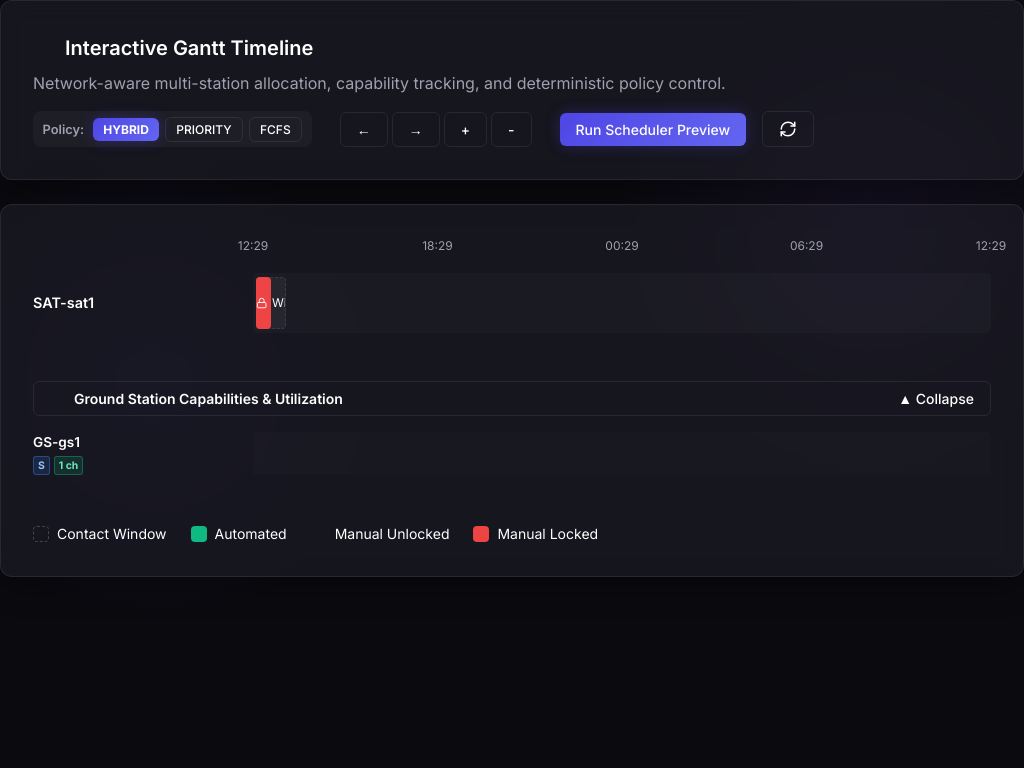
Scenario: GanttTimeline › handles 409 stale version on commit
Click the button "Run Scheduler Preview" at point(653, 129), box top-left (560, 113), bottom-right (746, 146)
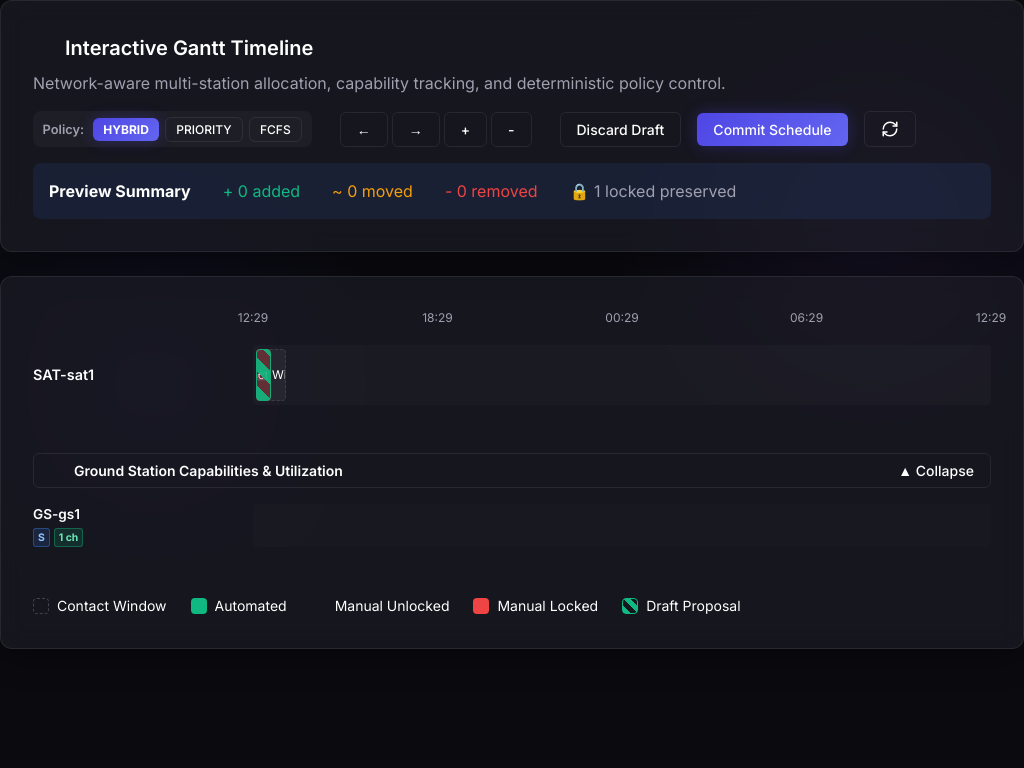
Expected: the button "Commit Schedule" is shown
Click the button "Commit Schedule" at point(772, 129), box top-left (697, 113), bottom-right (848, 146)
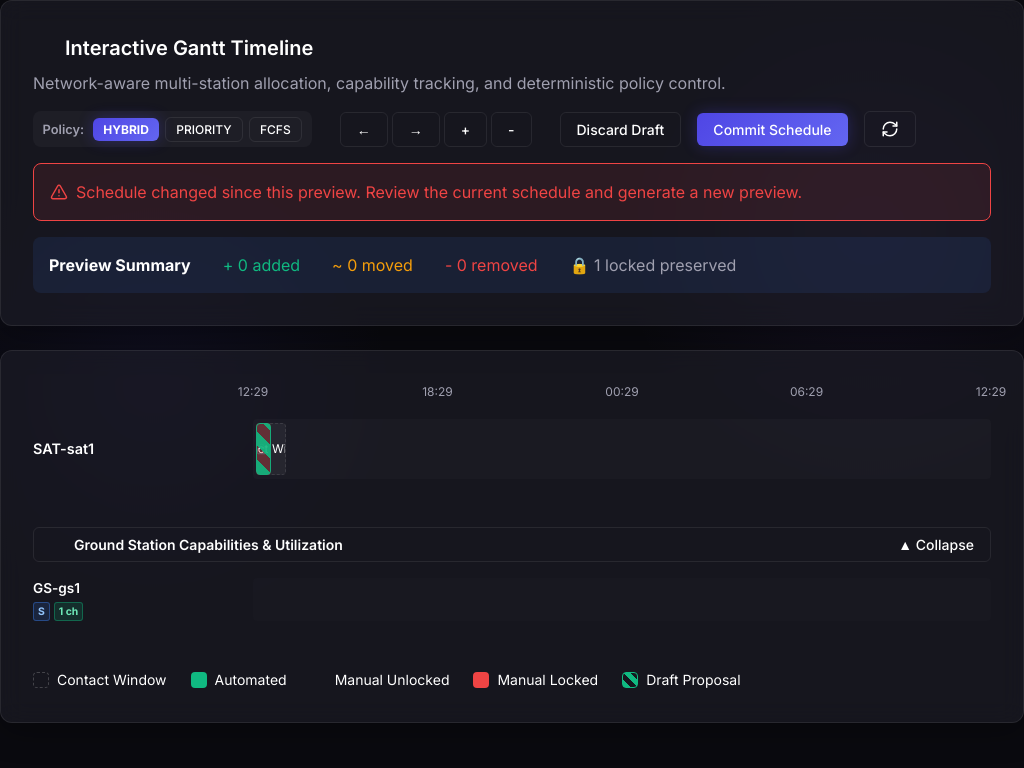
Expected: the text "Schedule changed since this preview" is shown, top-left (76, 182), bottom-right (802, 202)
